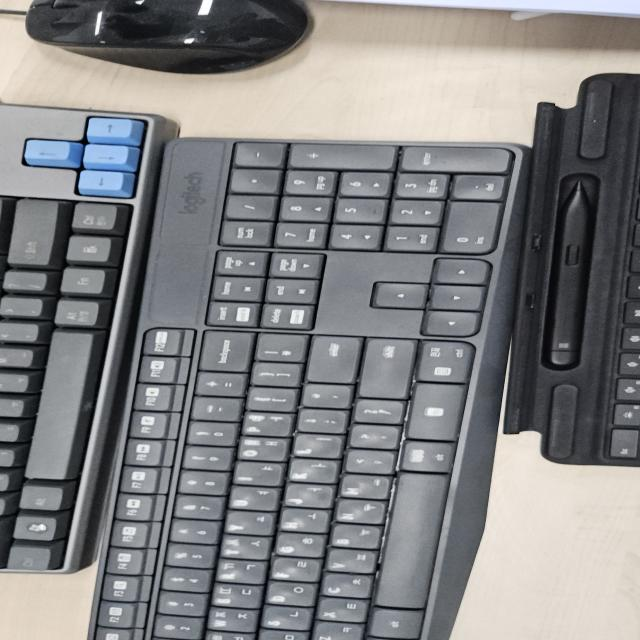Keyboard: (95, 136, 538, 640)
Mouse: (22, 0, 317, 76)
